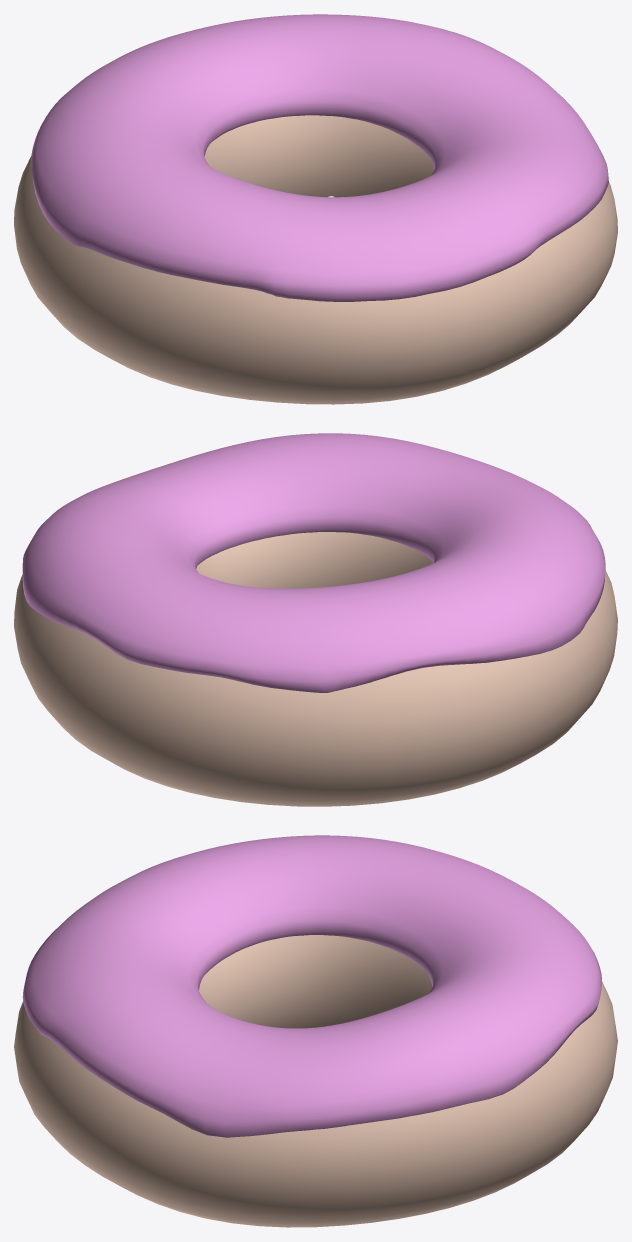
File: donut.fbx
3 renders of one model, top to bottom at view 1: azimuth 30°, elevation 25°; view 2: azimuth 150°, elevation 25°; view 3: azimuth 270°, elevation 25°, orthographic.
Parts seen in each view (by area): view 1: icing, donut; view 2: icing, donut; view 3: icing, donut.
Part boxes in pixels (left/top/right/bottom): icing: left=30, top=14, right=608, bottom=301; donut: left=14, top=115, right=617, bottom=404; icing: left=22, top=433, right=605, bottom=692; donut: left=14, top=532, right=617, bottom=806; icing: left=22, top=835, right=601, bottom=1137; donut: left=14, top=935, right=617, bottom=1227.
Bounding box in the file's own units: 14.7 × 5.41 × 14.63.
